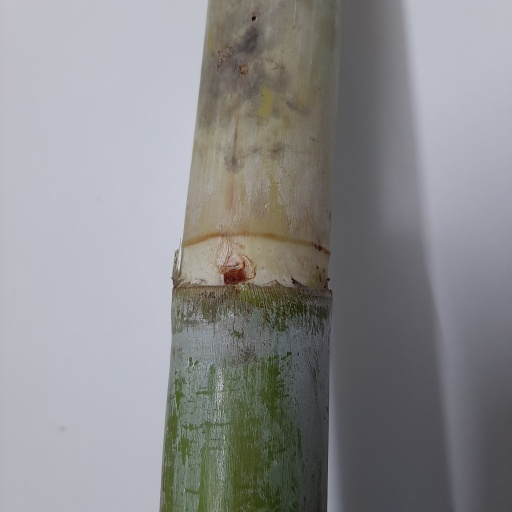Damage_Bud: (222, 254, 252, 287)
